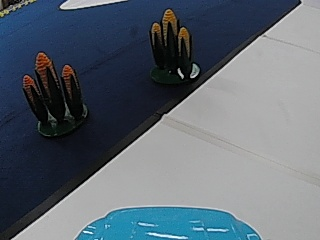corn: (20, 49, 90, 136), (146, 4, 199, 84)
